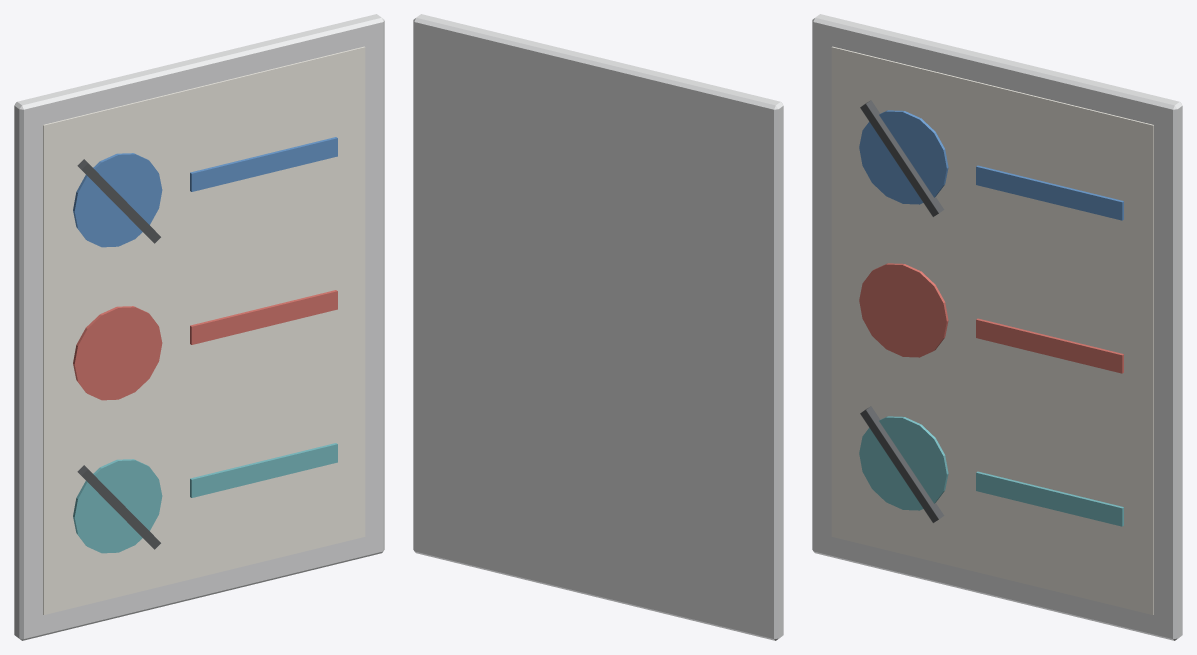
The model's file is poster.glb.
The picture shows the model from 3 angles, left to right: view 1: azimuth 30°, elevation 25°; view 2: azimuth 150°, elevation 25°; view 3: azimuth 330°, elevation 25°; orthographic projection.
Visible parts, largest first — view 1: poster_cream, poster_chrome, poster_redp, poster_board, poster_float_b, poster_dark; view 2: poster_chrome; view 3: poster_cream, poster_chrome, poster_redp, poster_float_b, poster_board, poster_dark.
Boxes of the visible parts, x1,y1,x2,y2 form: poster_cream: (43,46,365,614); poster_chrome: (14,14,384,640); poster_redp: (73,290,337,400); poster_board: (73,443,337,553); poster_float_b: (73,137,337,247); poster_dark: (77,159,160,549); poster_chrome: (413,14,783,640); poster_cream: (831,46,1153,614); poster_chrome: (812,14,1182,640); poster_redp: (859,263,1123,373); poster_float_b: (859,110,1123,220); poster_board: (859,416,1123,526); poster_dark: (860,100,944,522).
Bounding box in the file's own units: 0.5 × 0.7 × 0.0341.
